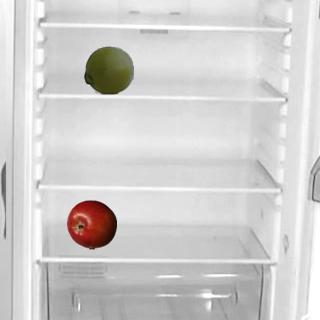Apple Braeburn: (66, 199, 116, 249)
Grape White 4: (83, 44, 133, 94)
